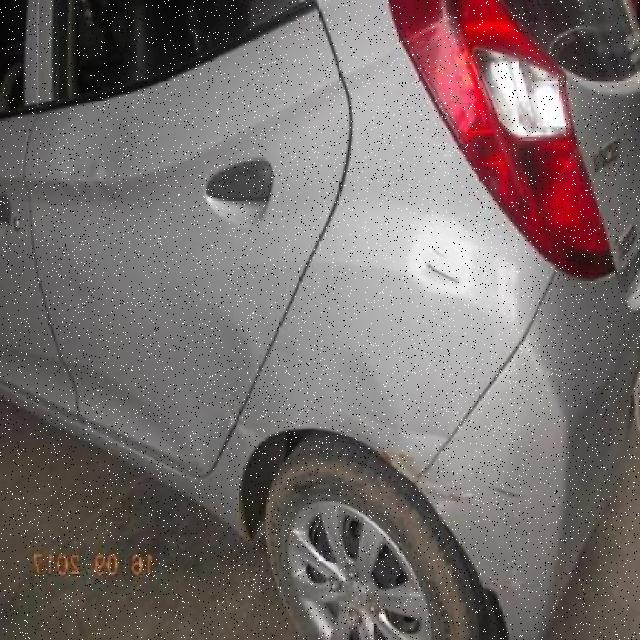damage: (336, 361, 411, 448), (379, 450, 475, 505), (404, 239, 473, 299), (213, 387, 283, 444), (56, 156, 113, 208), (487, 480, 526, 508)
